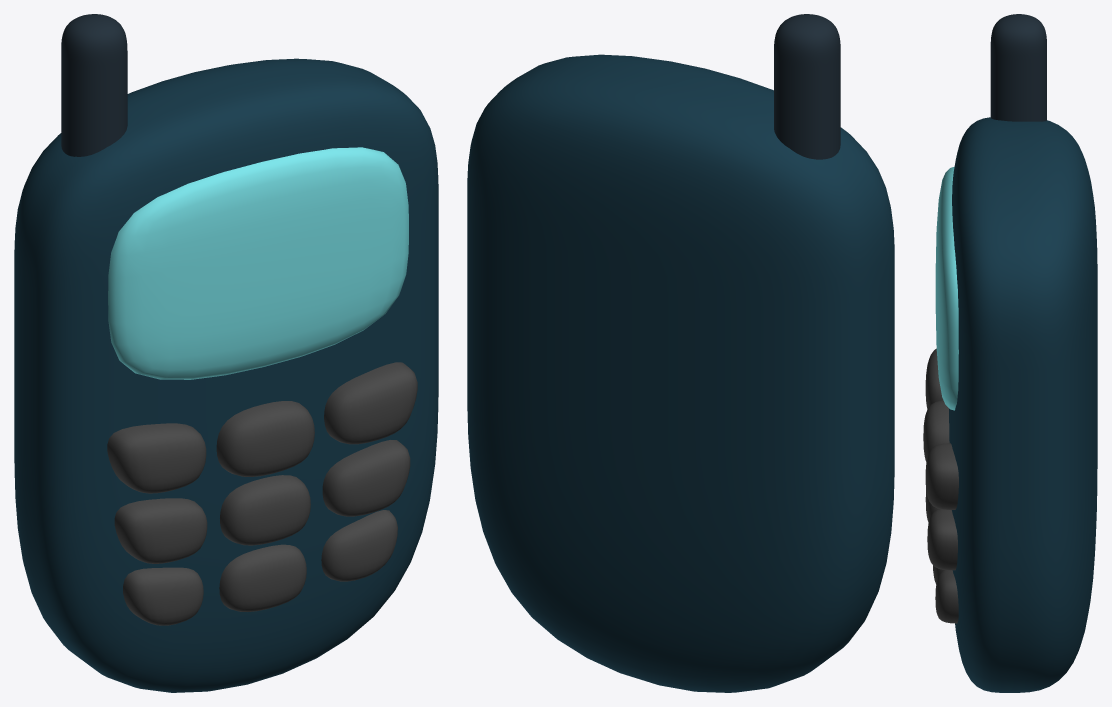
Rendered from phone.glb.
The picture shows the model from 3 angles, left to right: view 1: azimuth 30°, elevation 25°; view 2: azimuth 150°, elevation 25°; view 3: azimuth 270°, elevation 25°; orthographic projection. The views are drawn at different scales.
Parts seen in each view (by area): view 1: phone; view 2: phone; view 3: phone.
Part boxes in pixels (left/top/right/bottom): phone: left=14, top=14, right=438, bottom=692; phone: left=467, top=14, right=894, bottom=692; phone: left=923, top=14, right=1097, bottom=692.
Size of the model in its own units: 2 by 3.3 by 0.8751.
